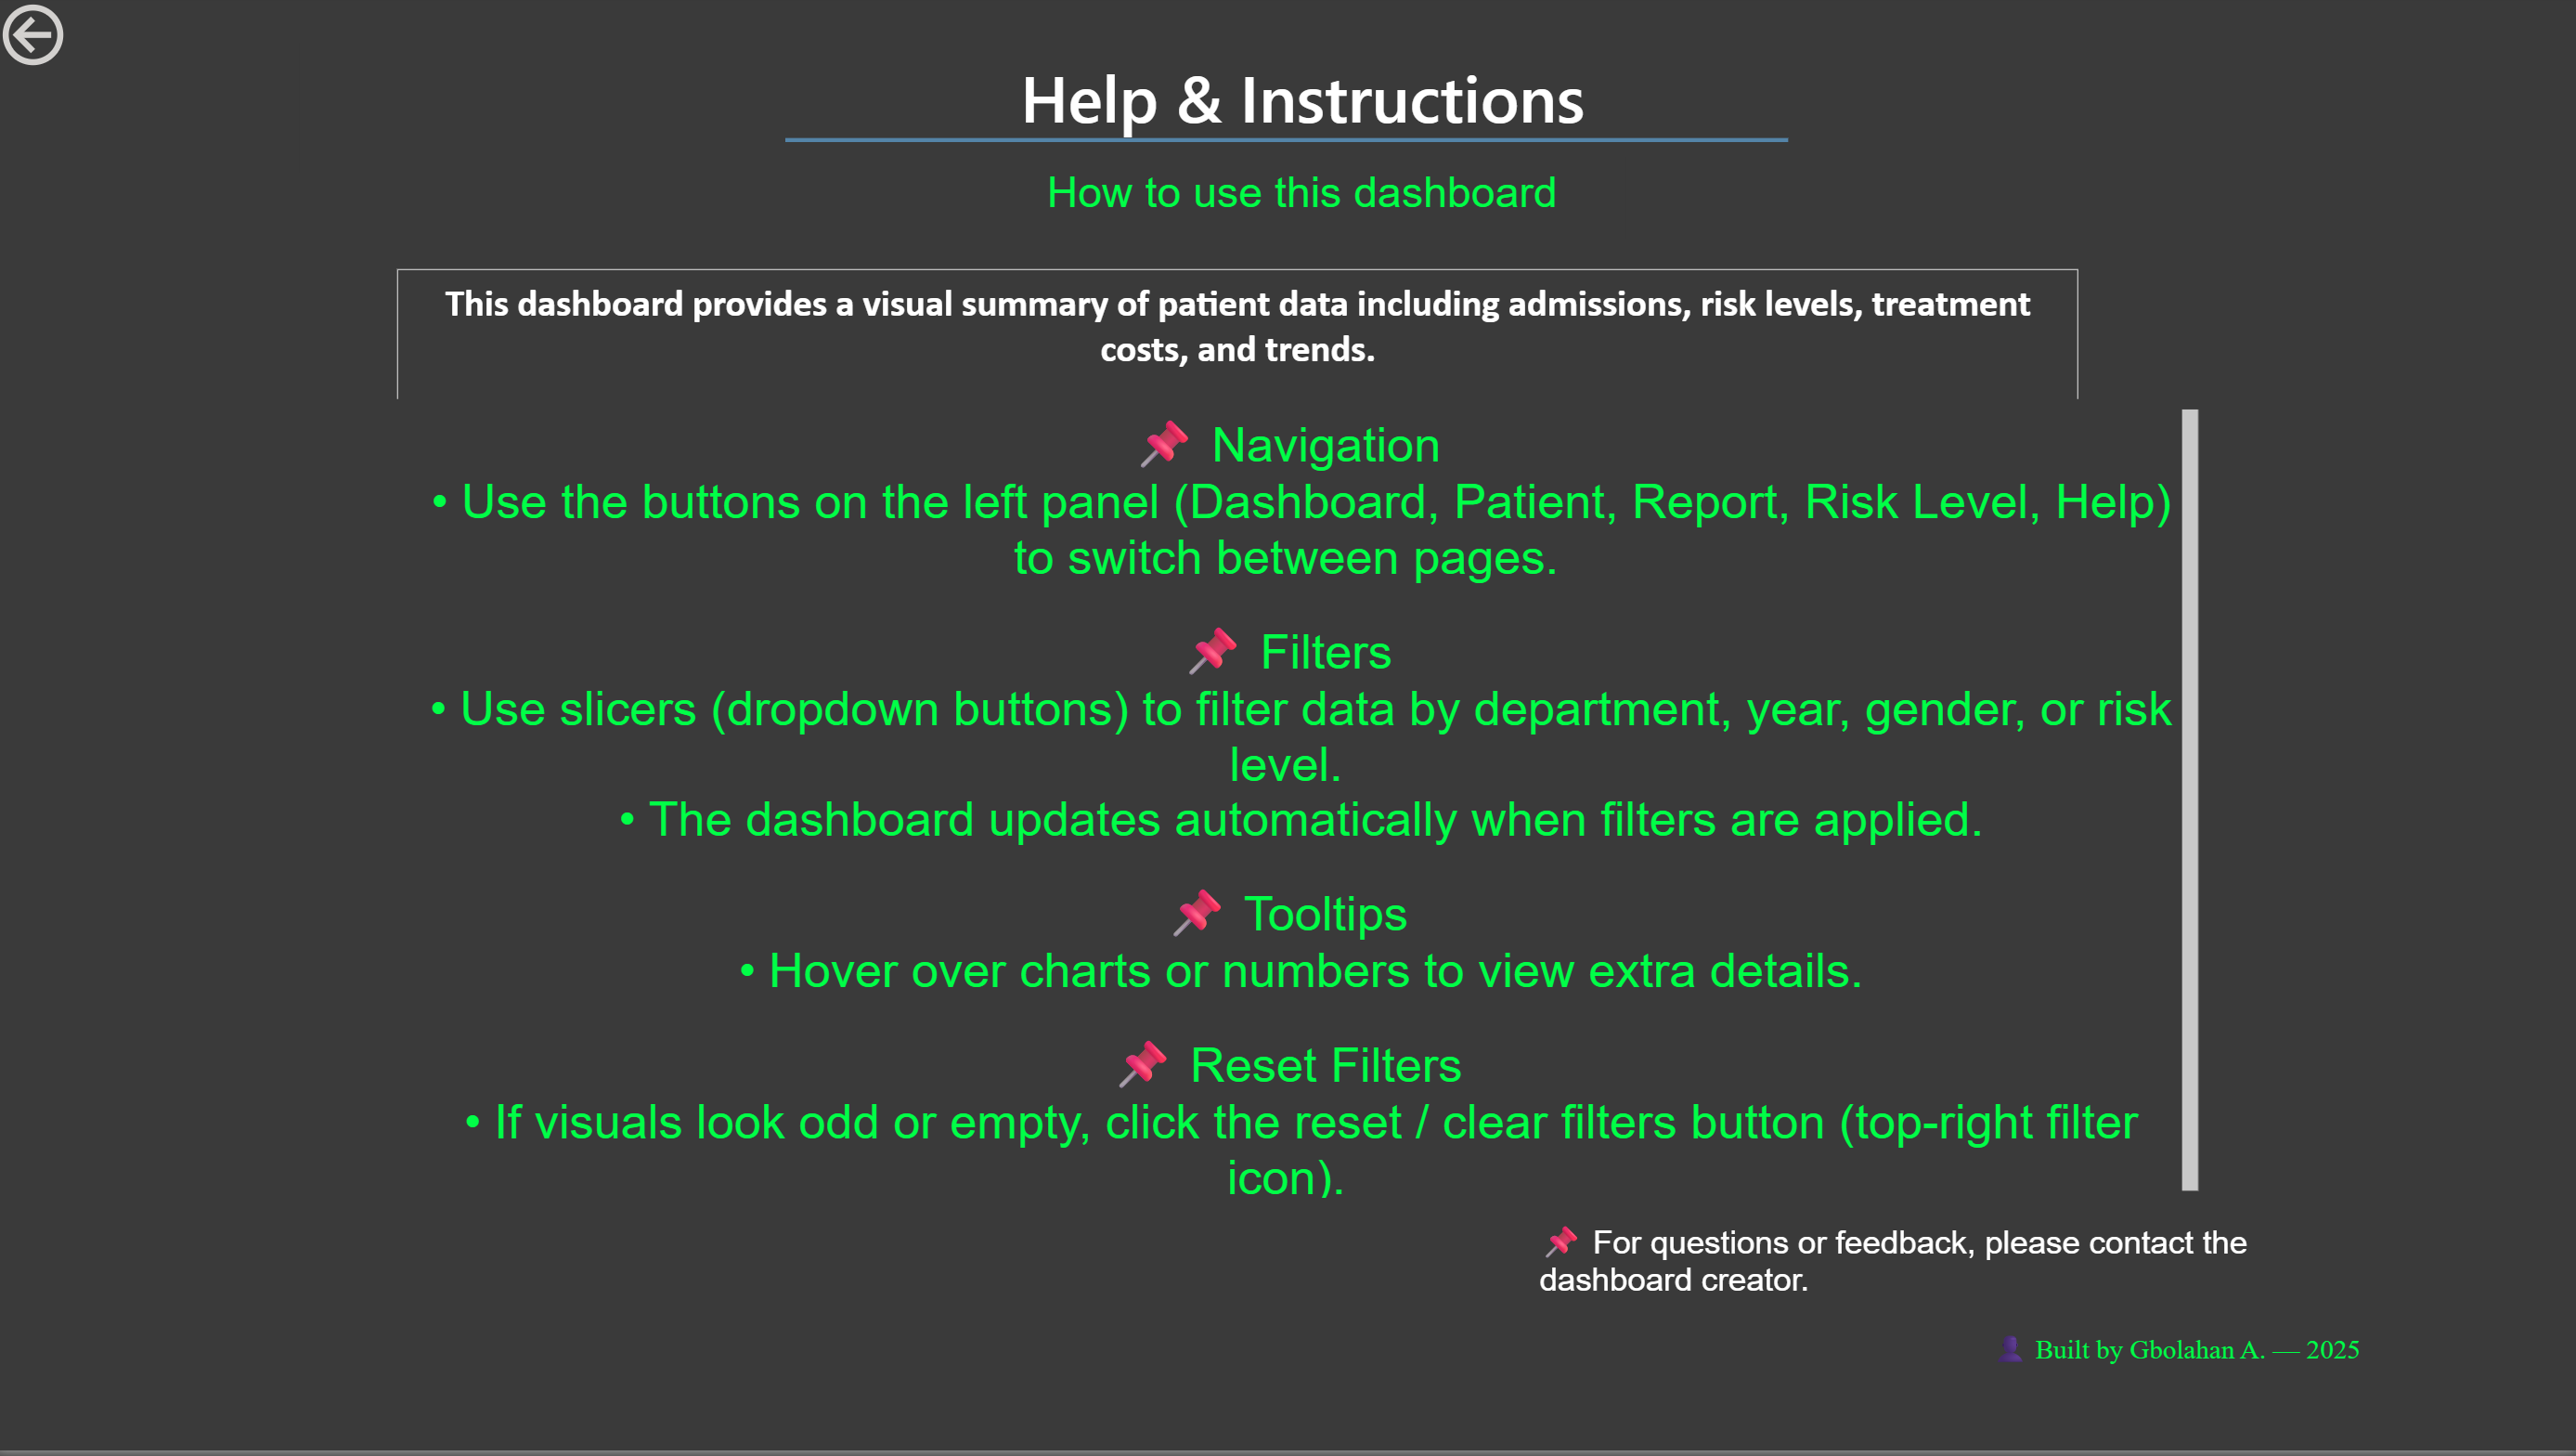

The dashboard page shown, as its layout file describes it:
{"tool":"powerbi","page":{"name":"Help","canvas":[1280,720],"ordinal":4},"visuals":[{"type":"actionButton","box":[0,0,100,40],"z":0},{"type":"textbox","box":[152,24,992,64],"z":1000},{"type":"textbox","box":[488,80,320,56],"z":2000},{"type":"shape","box":[392,0,496,144],"z":3000},{"type":"textbox","box":[200,136,832,88],"z":4000},{"type":"textbox","box":[192,200,904,400],"z":5000},{"type":"textbox","box":[760,600,416,120],"z":6000}]}

Visuals, with their boxes in screenshot pixels (x1, y1, x2, y2), scaled from the page's 1280x720 canvas onto the 2576x1456 screenshot:
actionButton: box(0, 0, 201, 81)
textbox: box(306, 48, 2302, 178)
textbox: box(982, 162, 1626, 275)
shape: box(789, 0, 1787, 292)
textbox: box(403, 275, 2077, 453)
textbox: box(386, 405, 2206, 1214)
textbox: box(1530, 1214, 2367, 1455)
